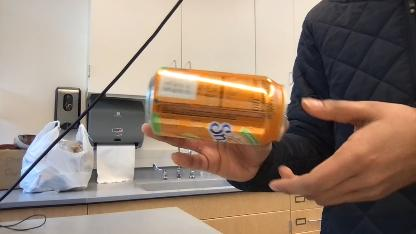Can: (142, 58, 292, 150)
